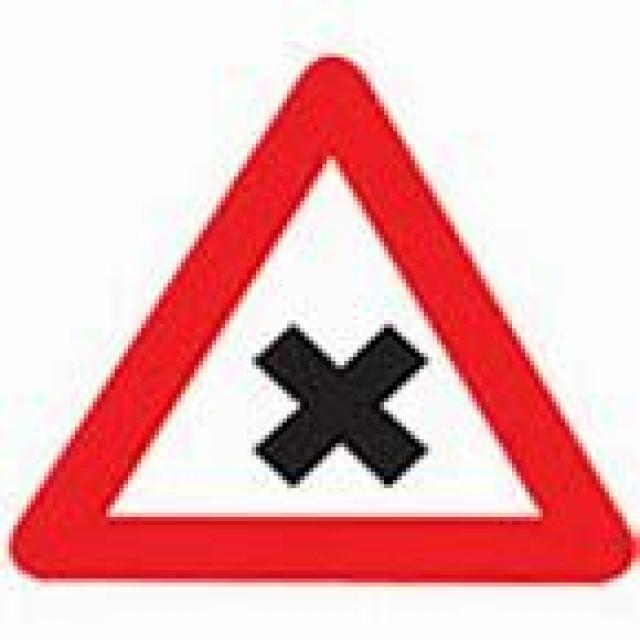CROSS_ROAD: (4, 53, 632, 591)
